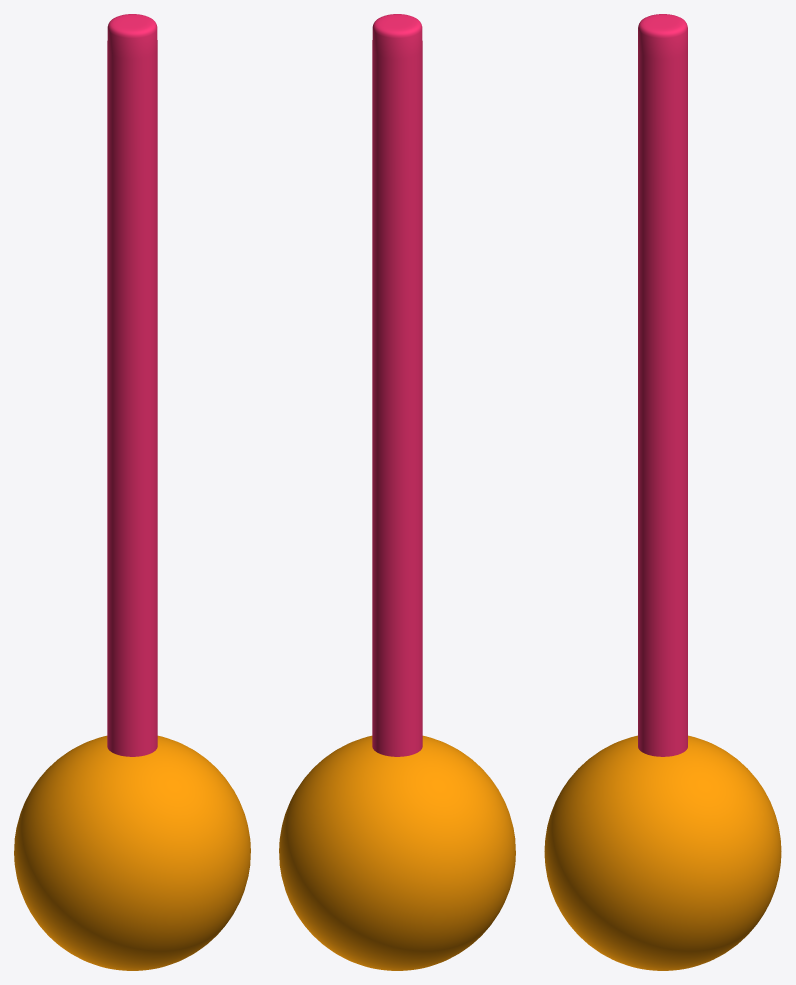
The picture shows the model from 3 angles, left to right: view 1: azimuth 30°, elevation 25°; view 2: azimuth 150°, elevation 25°; view 3: azimuth 270°, elevation 25°; orthographic projection.
Parts seen in each view (by area): view 1: Ball, kol.001; view 2: Ball, kol.001; view 3: Ball, kol.001.
Part boxes in pixels (x1,y1,x2,y2): Ball: (14,735,250,970); kol.001: (107,14,157,756); Ball: (279,735,515,970); kol.001: (372,14,422,756); Ball: (544,735,781,970); kol.001: (638,14,687,756).
Size of the model in its own units: 15.62 by 68.2 by 15.62.
